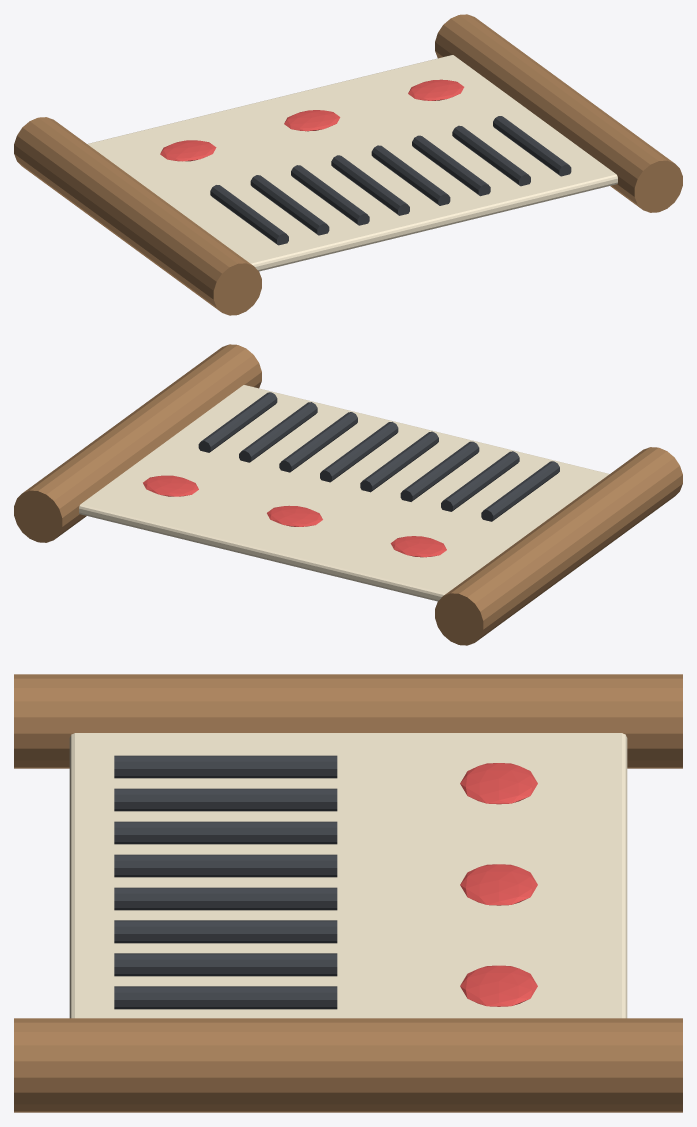
Rendered from writing_makimono.glb.
3 renders of one model, top to bottom at view 1: azimuth 30°, elevation 25°; view 2: azimuth 150°, elevation 25°; view 3: azimuth 270°, elevation 25°, orthographic. The views are drawn at different scales.
Parts seen in each view (by area): view 1: Unrolled makimono rice paper, Wooden scroll roller, Wooden scroll roller.001, Calligraphy brushstroke.001, Calligraphy brushstroke.004, Calligraphy brushstroke.005, Calligraphy brushstroke.002, Calligraphy brushstroke.003, Calligraphy brushstroke.006, Calligraphy brushstroke, Calligraphy brushstroke.007, Cinnabar artist seal (+2 smaller); view 2: Unrolled makimono rice paper, Wooden scroll roller, Wooden scroll roller.001, Calligraphy brushstroke.002, Calligraphy brushstroke.006, Calligraphy brushstroke.007, Calligraphy brushstroke, Calligraphy brushstroke.001, Calligraphy brushstroke.003, Calligraphy brushstroke.004, Calligraphy brushstroke.005, Cinnabar artist seal.002 (+2 smaller); view 3: Unrolled makimono rice paper, Wooden scroll roller.001, Wooden scroll roller, Calligraphy brushstroke.005, Calligraphy brushstroke.006, Calligraphy brushstroke.007, Calligraphy brushstroke, Calligraphy brushstroke.001, Calligraphy brushstroke.002, Calligraphy brushstroke.003, Calligraphy brushstroke.004, Cinnabar artist seal.001 (+2 smaller).
Part boxes in pixels (box(x1,y1,x2,y2)): Unrolled makimono rice paper: box(87, 55, 617, 271); Wooden scroll roller: box(14, 117, 261, 315); Wooden scroll roller.001: box(435, 14, 682, 212); Calligraphy brushstroke.001: box(250, 175, 329, 235); Calligraphy brushstroke.004: box(371, 145, 450, 205); Calligraphy brushstroke.005: box(412, 135, 490, 196); Calligraphy brushstroke.002: box(291, 165, 369, 225); Calligraphy brushstroke.003: box(331, 155, 409, 215); Calligraphy brushstroke.006: box(452, 125, 530, 186); Calligraphy brushstroke: box(210, 185, 288, 245); Calligraphy brushstroke.007: box(493, 116, 571, 176); Cinnabar artist seal: box(160, 140, 216, 161); Unrolled makimono rice paper: box(79, 385, 609, 601); Wooden scroll roller: box(435, 447, 682, 645); Wooden scroll roller.001: box(14, 344, 261, 542); Calligraphy brushstroke.002: box(400, 441, 479, 501); Calligraphy brushstroke.006: box(239, 402, 317, 462); Calligraphy brushstroke.007: box(198, 392, 277, 452); Calligraphy brushstroke: box(481, 461, 559, 521); Calligraphy brushstroke.001: box(441, 451, 519, 511); Calligraphy brushstroke.003: box(360, 431, 438, 492); Calligraphy brushstroke.004: box(320, 421, 398, 482); Calligraphy brushstroke.005: box(279, 412, 357, 472); Cinnabar artist seal.002: box(143, 475, 198, 496); Unrolled makimono rice paper: box(69, 733, 627, 1018); Wooden scroll roller.001: box(14, 1018, 682, 1112); Wooden scroll roller: box(14, 674, 682, 768); Calligraphy brushstroke.005: box(114, 920, 337, 943); Calligraphy brushstroke.006: box(114, 953, 337, 976); Calligraphy brushstroke.007: box(114, 986, 337, 1009); Calligraphy brushstroke: box(114, 755, 337, 778); Calligraphy brushstroke.001: box(114, 788, 337, 811); Calligraphy brushstroke.002: box(114, 821, 337, 844); Calligraphy brushstroke.003: box(114, 854, 337, 877); Calligraphy brushstroke.004: box(114, 887, 337, 910); Cinnabar artist seal.001: box(460, 864, 537, 905).
Size of the model in its own units: 1.95 by 0.2037 by 1.44.
